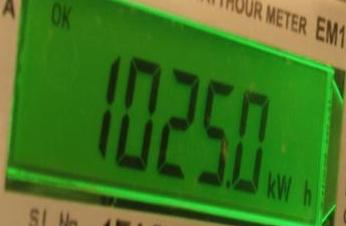.: (266, 171, 317, 207)
0: (222, 181, 233, 189)
1: (115, 59, 161, 175), (232, 89, 269, 196)
2: (91, 51, 123, 163)
3: (156, 66, 201, 179)
6: (196, 78, 237, 187)
